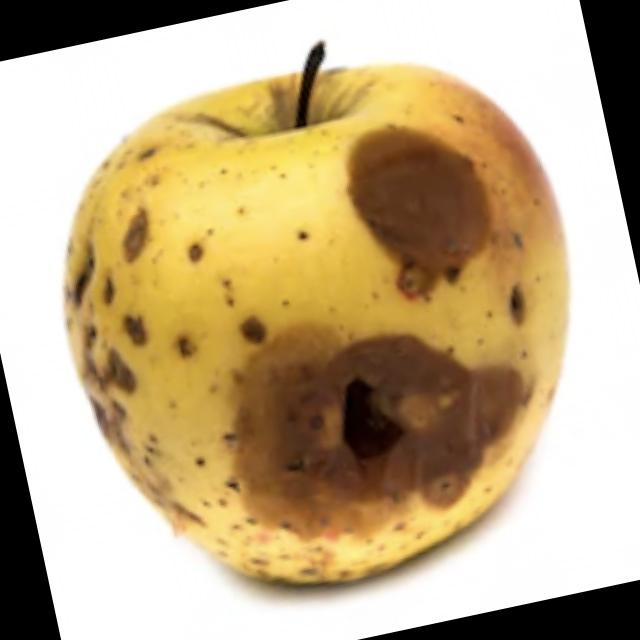rotten_apple: (15, 0, 624, 630)
